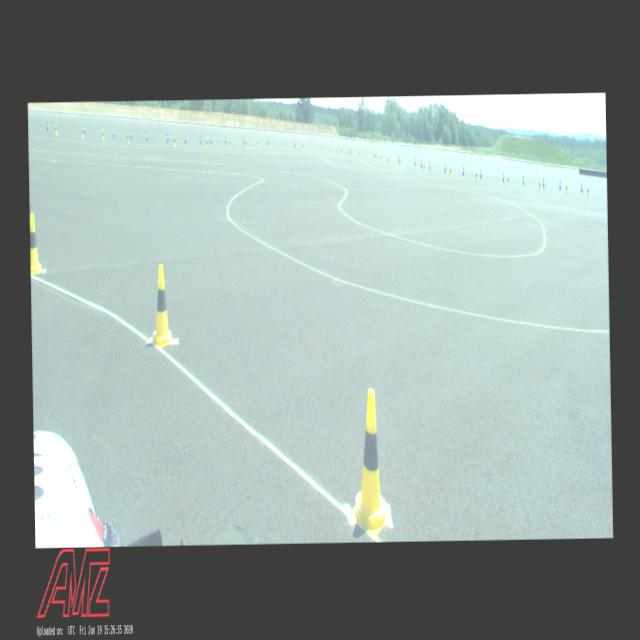blue_cone: (184, 134, 187, 144), (479, 168, 482, 178), (558, 180, 561, 190), (428, 160, 431, 169), (46, 120, 48, 130), (146, 131, 148, 141), (167, 132, 169, 142), (420, 158, 422, 168), (502, 172, 504, 182), (522, 174, 524, 184), (542, 178, 544, 188), (580, 182, 582, 192), (130, 130, 132, 139), (200, 135, 202, 144), (210, 135, 212, 144), (462, 166, 464, 175), (112, 128, 114, 136), (444, 164, 446, 172), (84, 125, 85, 134)
yellow_cone: (348, 388, 391, 536), (150, 264, 173, 348), (29, 213, 43, 273), (126, 132, 130, 143), (448, 166, 452, 177), (474, 170, 478, 181), (173, 135, 176, 146), (54, 124, 57, 134), (205, 138, 208, 148), (398, 158, 401, 167), (244, 140, 247, 148), (506, 174, 508, 186), (564, 182, 566, 194), (587, 186, 589, 197), (81, 127, 83, 137), (102, 130, 104, 140), (257, 138, 259, 148), (423, 162, 425, 172), (538, 180, 540, 190), (228, 140, 230, 148), (379, 154, 381, 162), (386, 156, 388, 164)
